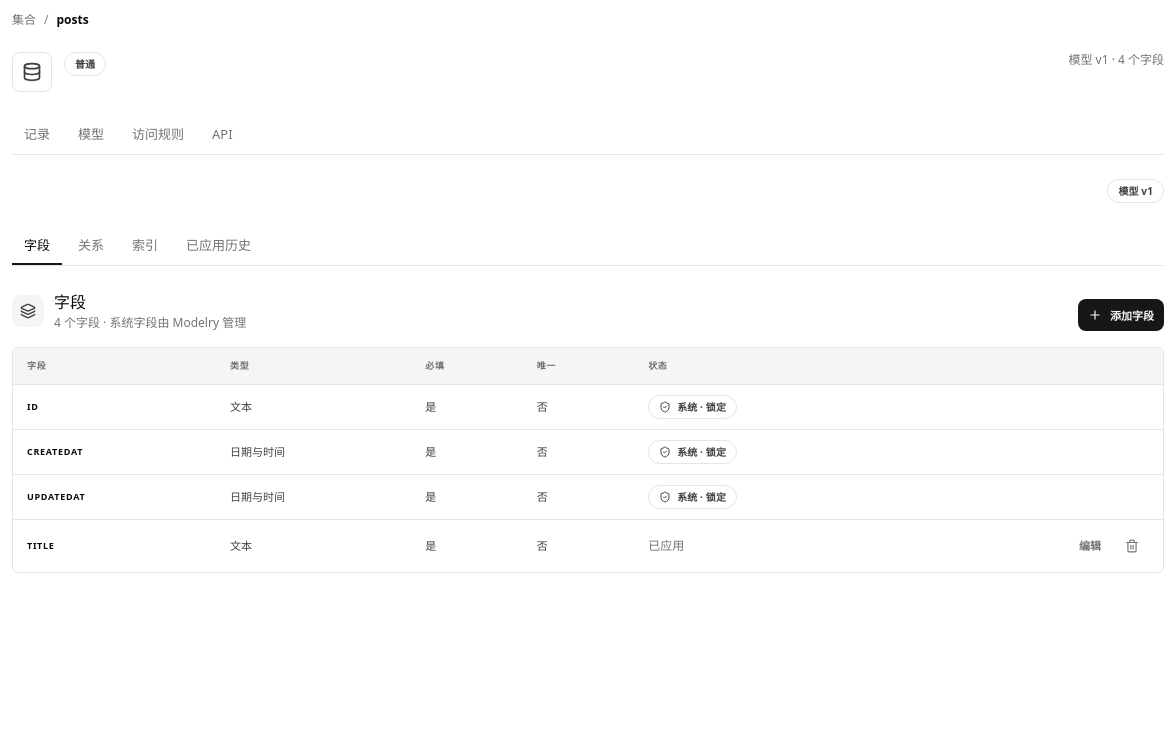
Scenario: Collection schema workflow › renders the whole Schema surface in Simplified Chinese without translating Collection data
The width and height of the screenshot is (1176, 732).
Check: the button "关系" is shown, box [66, 227, 116, 265]
Check: the button "索引" is shown, box [120, 227, 170, 265]
Click the button "已应用历史" at coordinates (218, 246), box [174, 227, 263, 265]
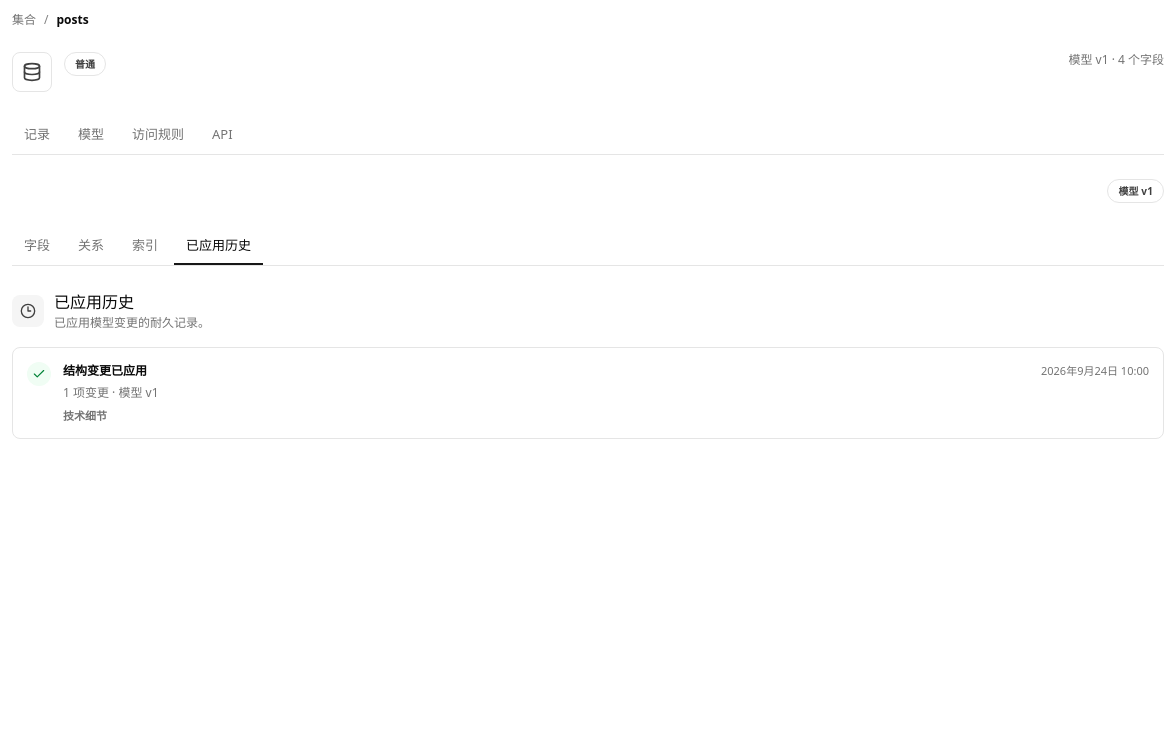
Check: the text "结构变更已应用" is shown, box [63, 363, 147, 379]
Check: the button "技术细节" is shown, box [63, 407, 107, 424]
